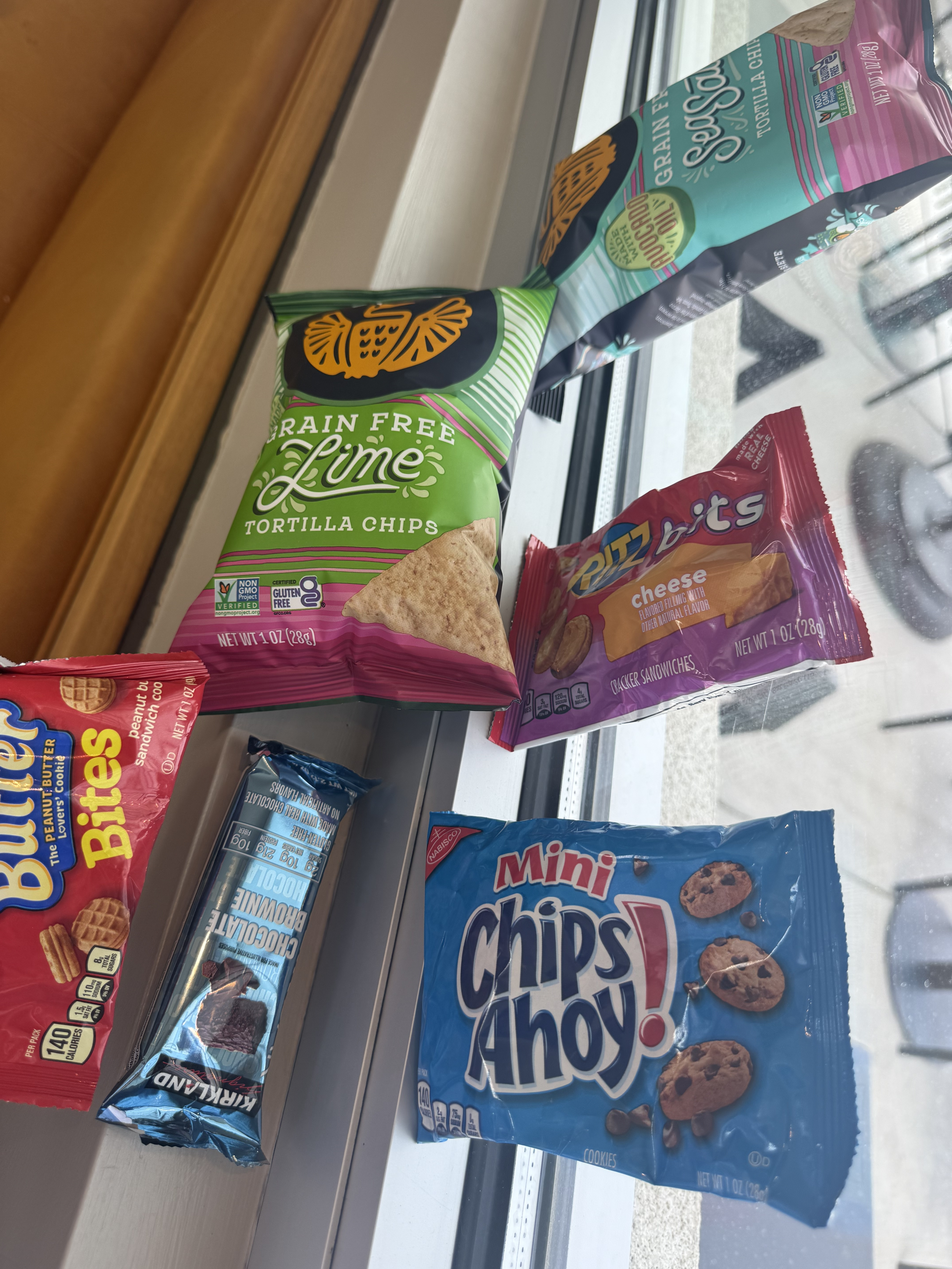chips_ahoy: (428, 811, 846, 1183)
chocolate_brownie: (228, 747, 347, 1152)
lime: (273, 230, 564, 700)
nutter_butter: (0, 659, 160, 1044)
ritz_cheese: (524, 534, 877, 762)
sea_salt: (489, 120, 885, 358)
